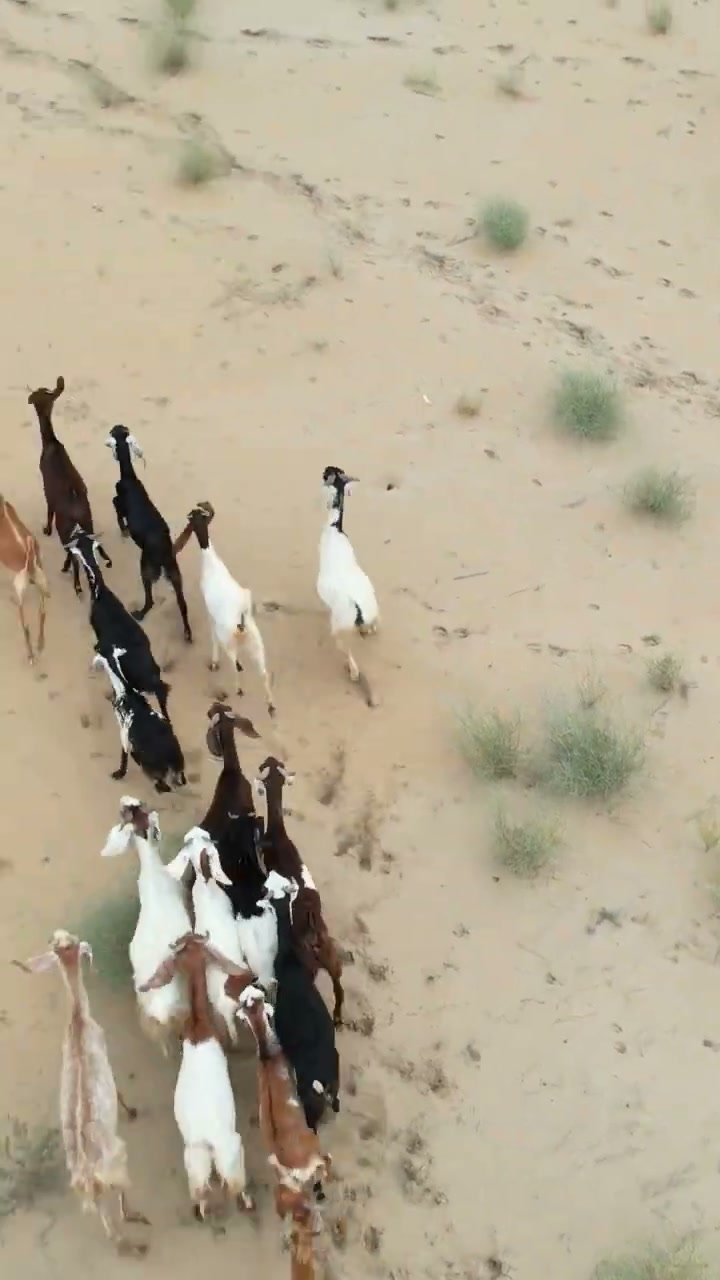animal_footprint: (297, 687, 470, 1279)
